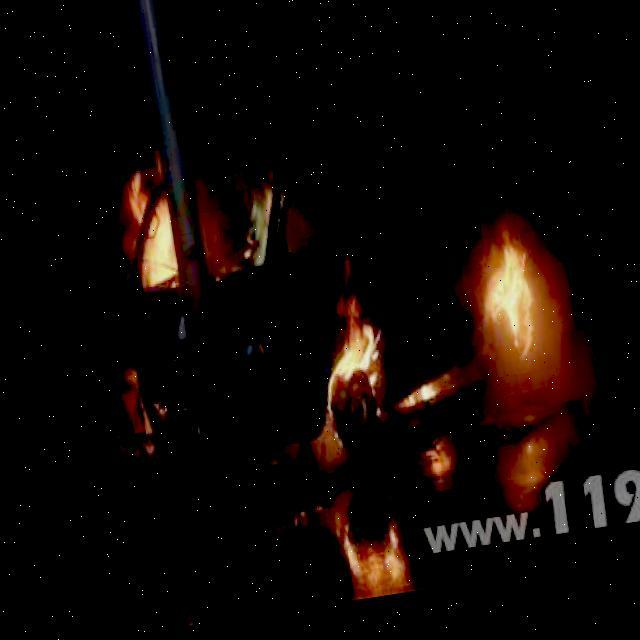Fire: (286, 276, 376, 446), (458, 233, 536, 377), (108, 164, 180, 309)
